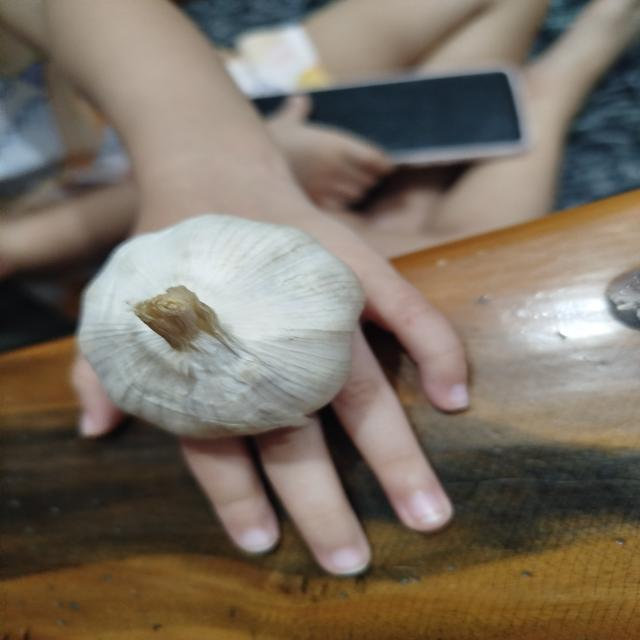garlic: (75, 213, 367, 440)
